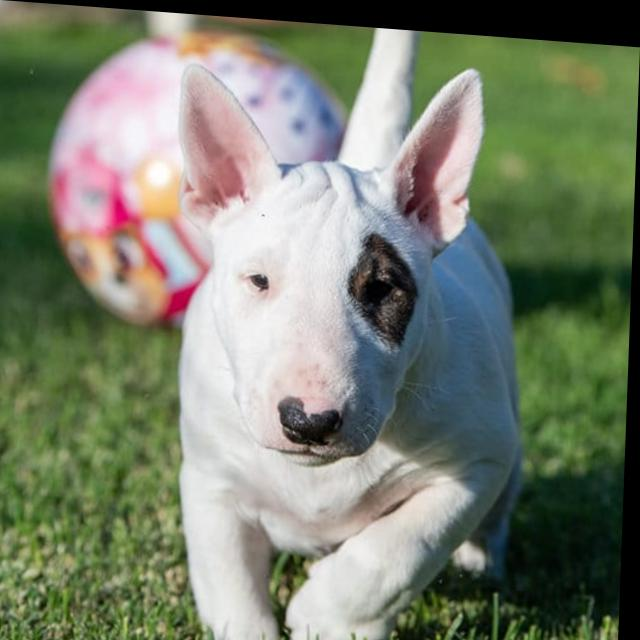bullterrier: (162, 11, 541, 640)
